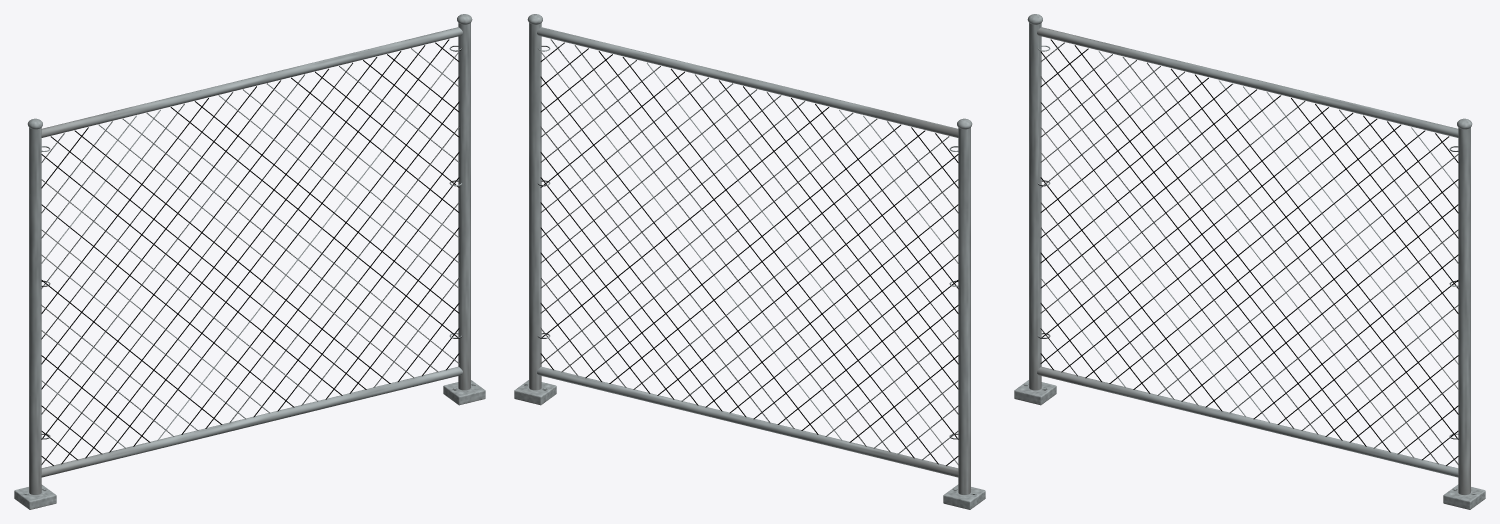
File: GR_ChainlinkPanel_03.glb
3 views of the same model, side by side, from view 1: azimuth 30°, elevation 25°; view 2: azimuth 150°, elevation 25°; view 3: azimuth 330°, elevation 25° (orthographic).
Visible parts, largest first — view 1: Static; view 2: Static; view 3: Static.
Boxes of the visible parts, left/top/right/bottom form: Static: left=14, top=14, right=485, bottom=509; Static: left=514, top=14, right=985, bottom=509; Static: left=1014, top=14, right=1485, bottom=509.
Size of the model in its own units: 2.66 by 2.12 by 0.16.
1 material, 1 textured.
